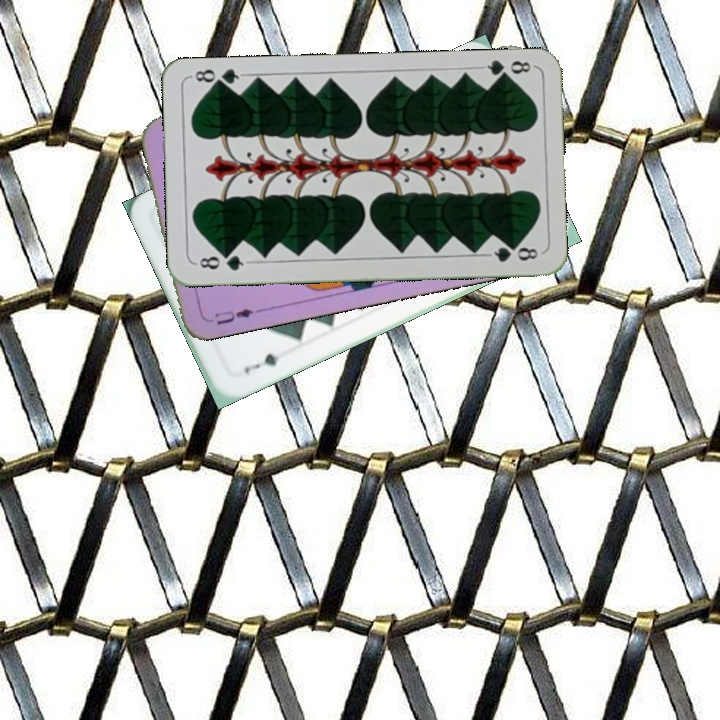EU: (211, 304, 262, 328)
G7: (240, 349, 282, 376)
G8: (477, 56, 536, 83), (192, 250, 251, 274)
